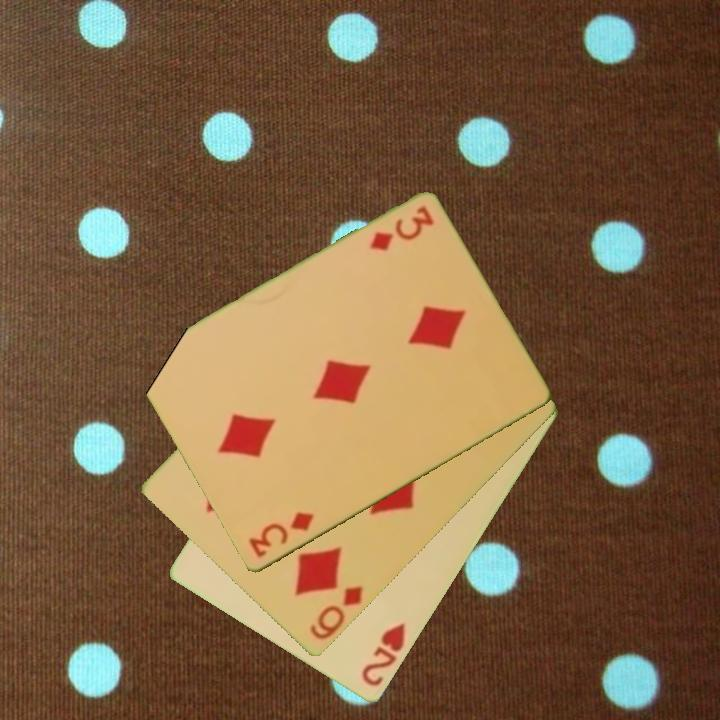2h: (358, 620, 409, 690)
3d: (245, 508, 317, 561), (365, 203, 437, 255)
6d: (306, 582, 366, 644)
